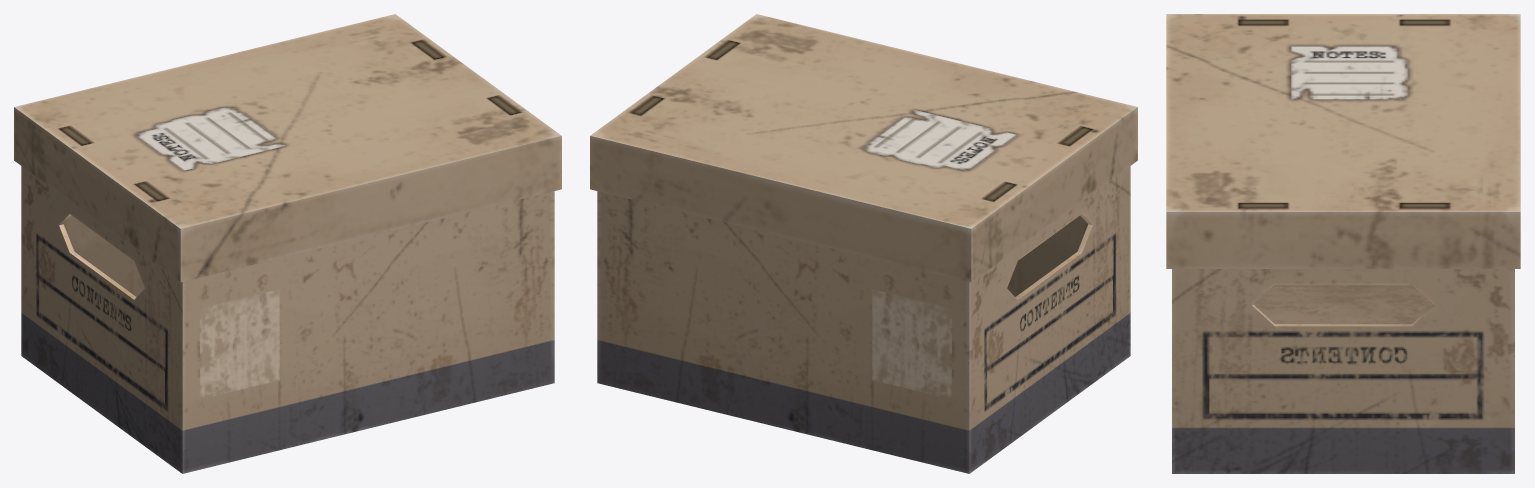
Rendered from fileBox01_B.FBX.
3 views of the same model, side by side, from view 1: azimuth 30°, elevation 25°; view 2: azimuth 150°, elevation 25°; view 3: azimuth 270°, elevation 25° (orthographic). The views are drawn at different scales.
Visible parts, largest first — view 1: fileBox01_B, fileBox01_B_lid; view 2: fileBox01_B, fileBox01_B_lid; view 3: fileBox01_B_lid, fileBox01_B.
Part boxes in pixels (left/top/right/bottom): fileBox01_B: left=21, top=166, right=554, bottom=473; fileBox01_B_lid: left=14, top=14, right=561, bottom=282; fileBox01_B: left=597, top=166, right=1130, bottom=473; fileBox01_B_lid: left=590, top=14, right=1137, bottom=282; fileBox01_B_lid: left=1166, top=14, right=1520, bottom=268; fileBox01_B: left=1172, top=269, right=1514, bottom=473.
Bounding box in the file's own units: 41 × 25.5 × 31.
